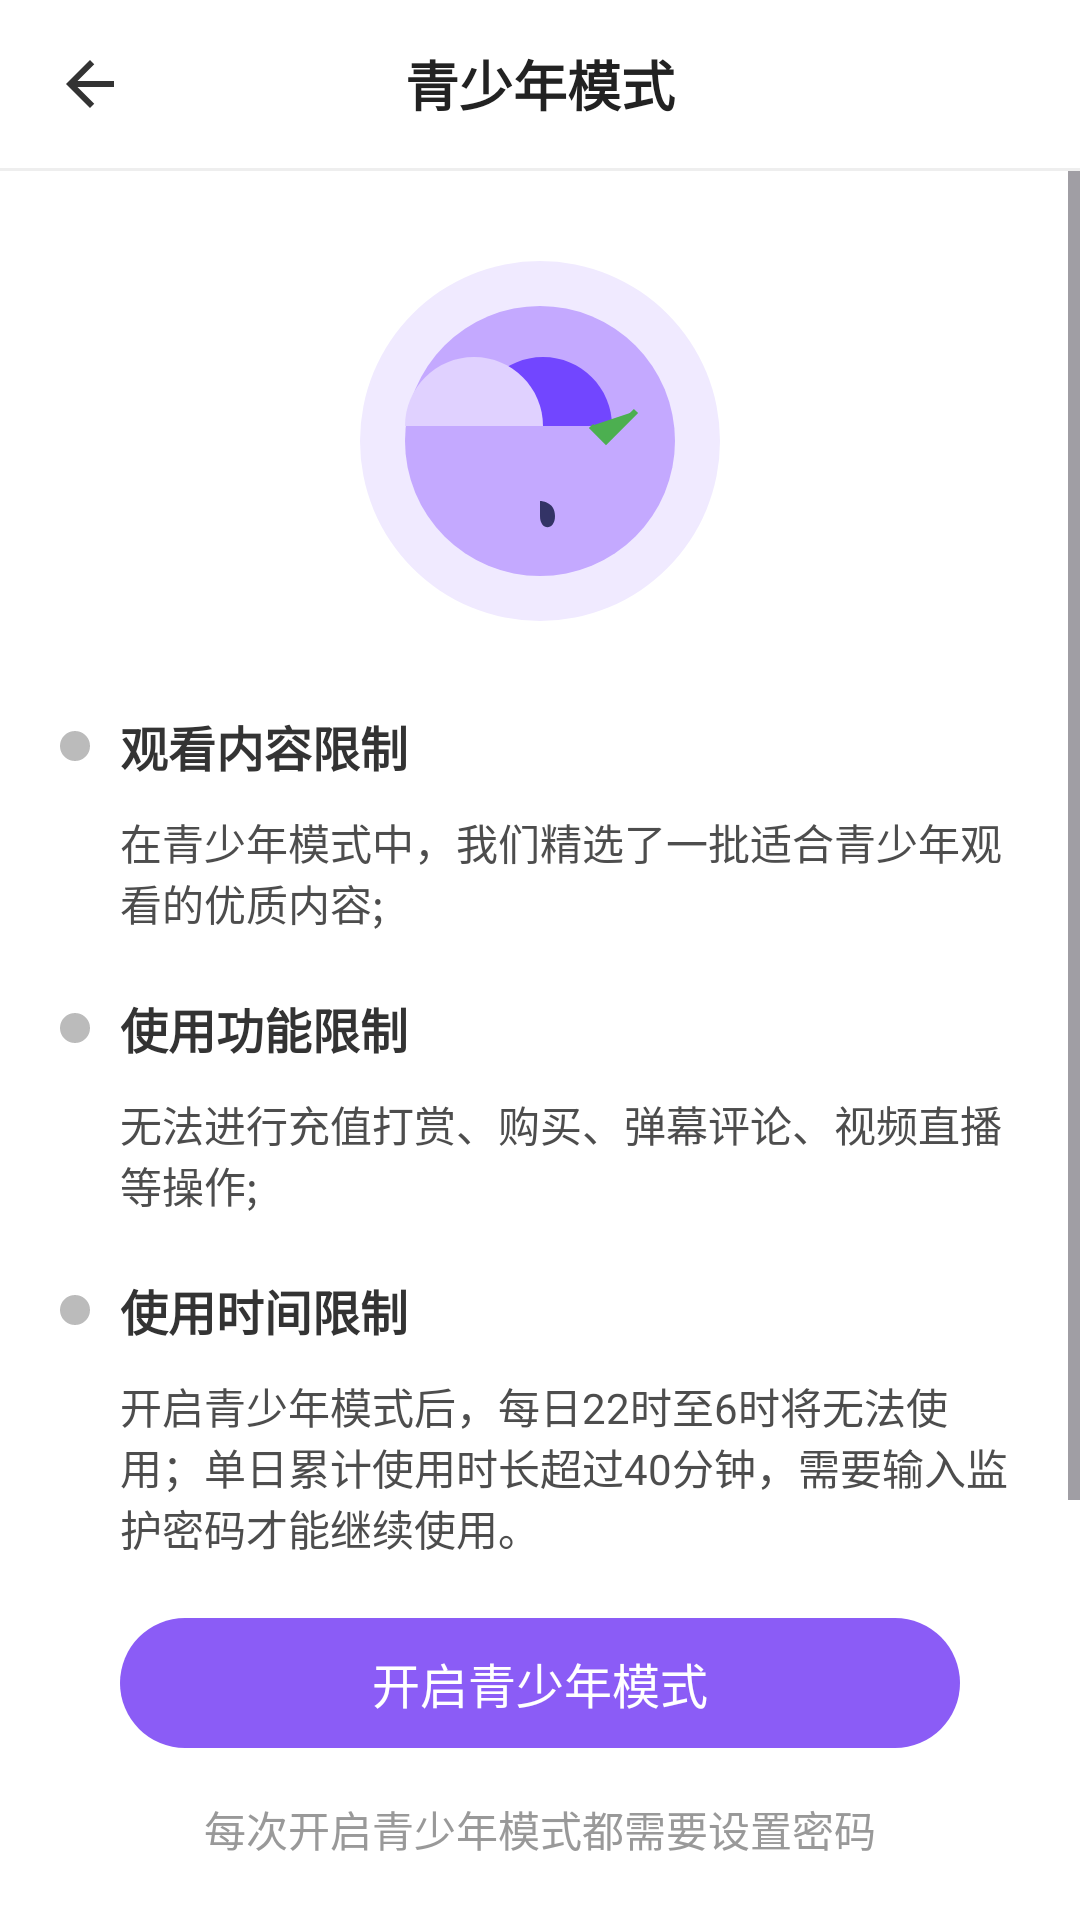

Icon bounding boxes for this 1080 × 1920 phone screenshot, format (x1, y1, x2, y2):
back: (66, 60, 114, 108)
teen mode: (405, 306, 675, 576)
